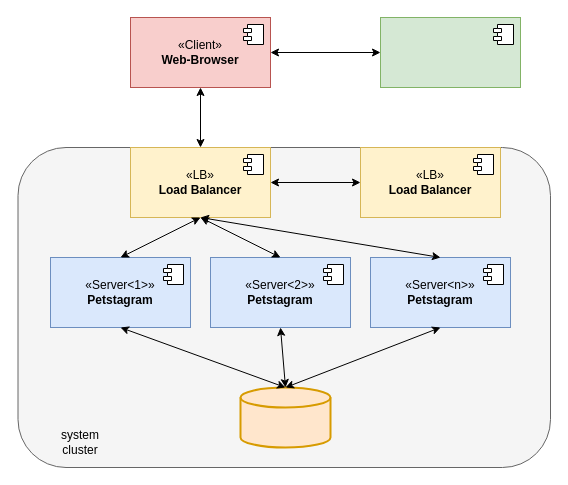
This 568x485 diagram has some shape labels left out. The shapes that lost their labels are listed below. From the top down, each one's centre as x and y in pixels, then its label:
At [450,52]: "«DNS» domain name system".
At [285,417]: "DB".
